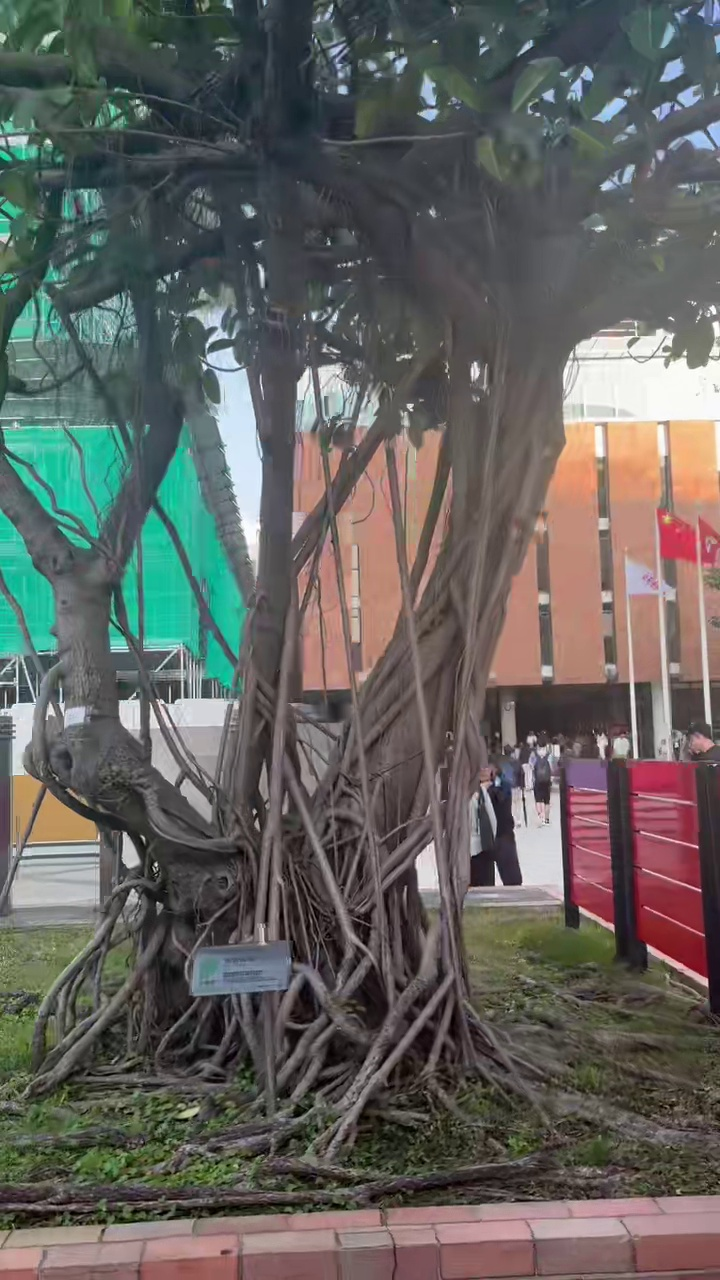Ficus elastica: (0, 0, 719, 1153)
